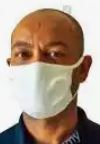with_facemask: (8, 63, 76, 114)
